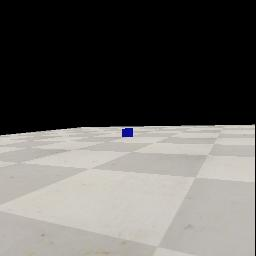box: (122, 128, 133, 137)
